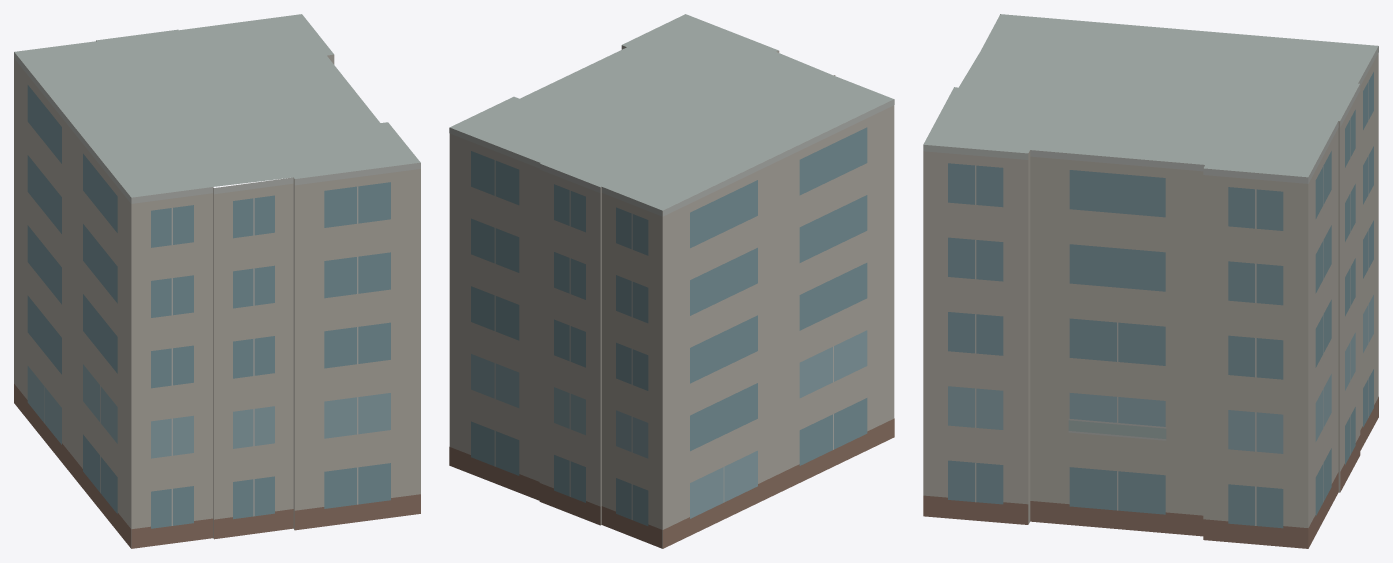
Rendered from survey-upis-32652859.glb.
The picture shows the model from 3 angles, left to right: view 1: azimuth 30°, elevation 25°; view 2: azimuth 150°, elevation 25°; view 3: azimuth 270°, elevation 25°; orthographic projection. The views are drawn at different scales.
Parts seen in each view (by area): view 1: survey-upis-32652859.tmp; view 2: survey-upis-32652859.tmp; view 3: survey-upis-32652859.tmp.
Boxes of the visible parts, x1,y1,x2,y2 form: survey-upis-32652859.tmp: [14, 14, 420, 548]; survey-upis-32652859.tmp: [449, 14, 894, 548]; survey-upis-32652859.tmp: [923, 14, 1378, 548].
Bounding box in the file's own units: 12.92 × 13.7 × 15.23.
